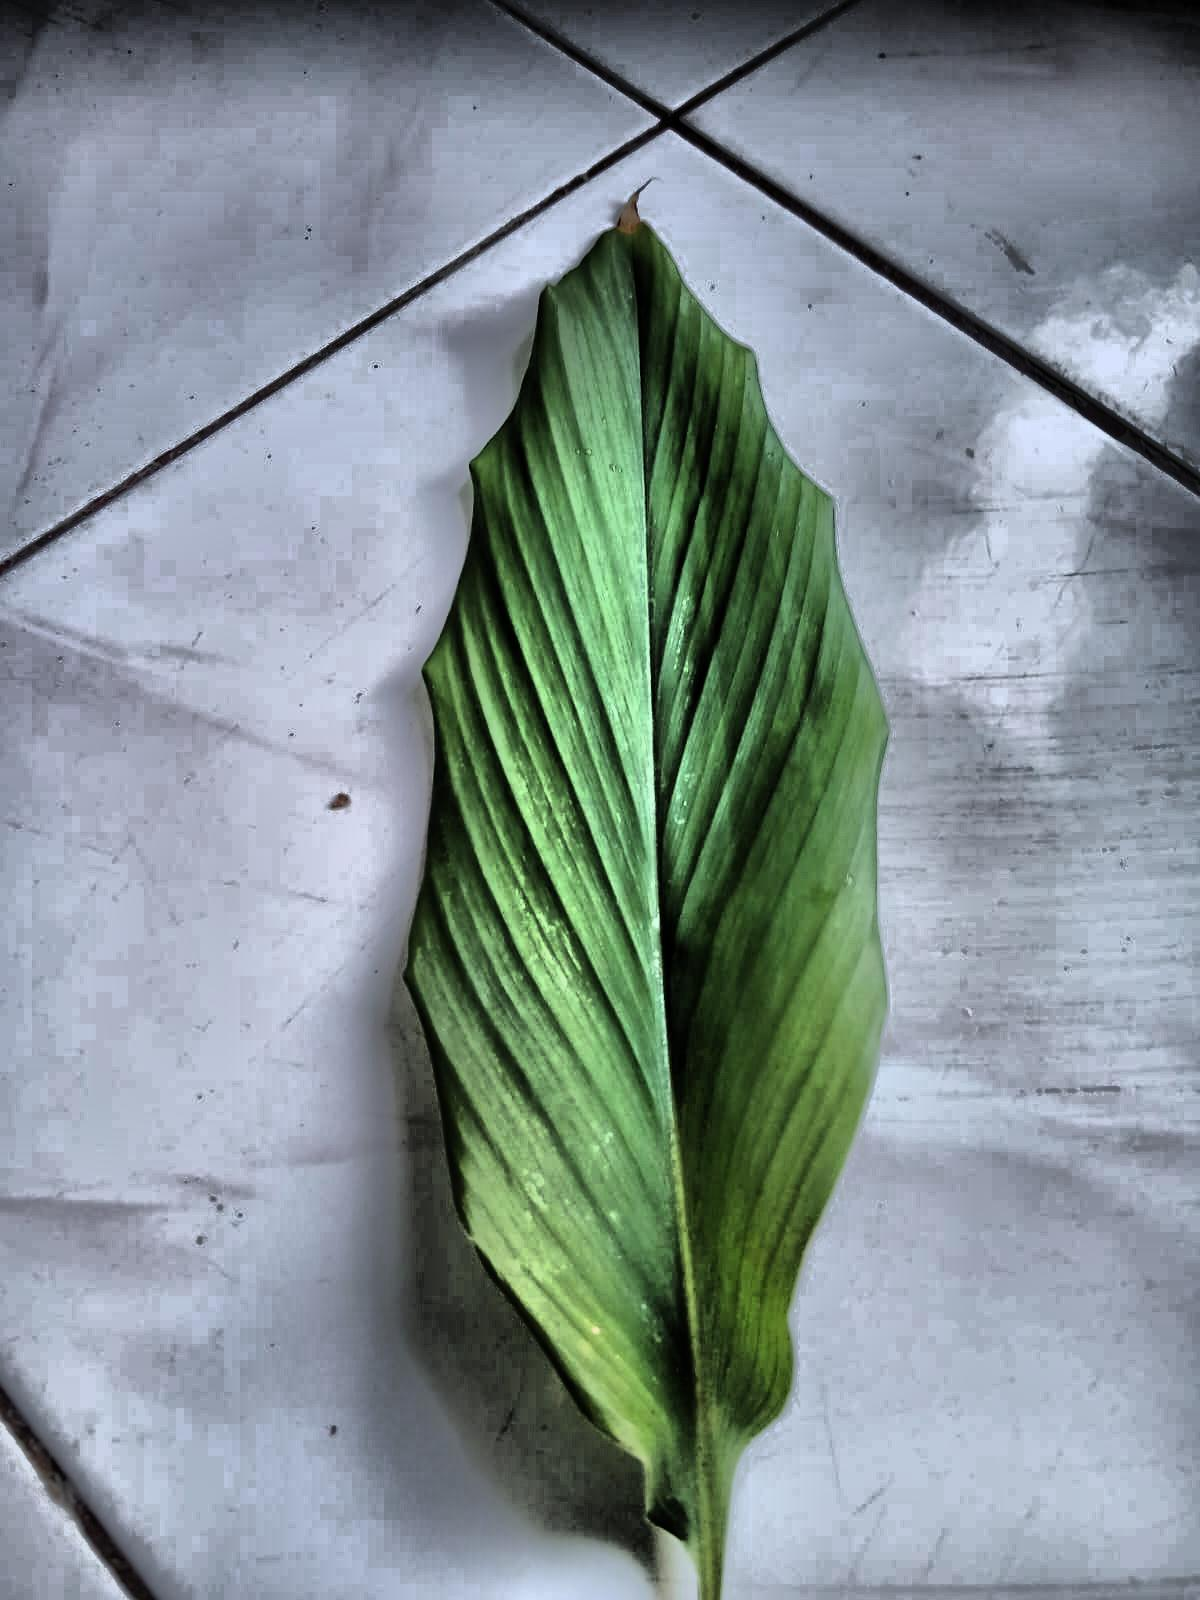daun kunyit: (407, 208, 887, 1599)
